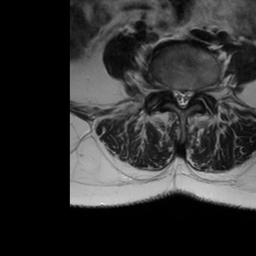CCS_normal: (178, 84, 186, 114)
LFS_severe_stenosis: (194, 82, 202, 99)
LLS_stenosis: (187, 85, 193, 108)
RFS_severe_stenosis: (164, 81, 173, 99)
RLS_stenosis: (173, 83, 179, 107)
